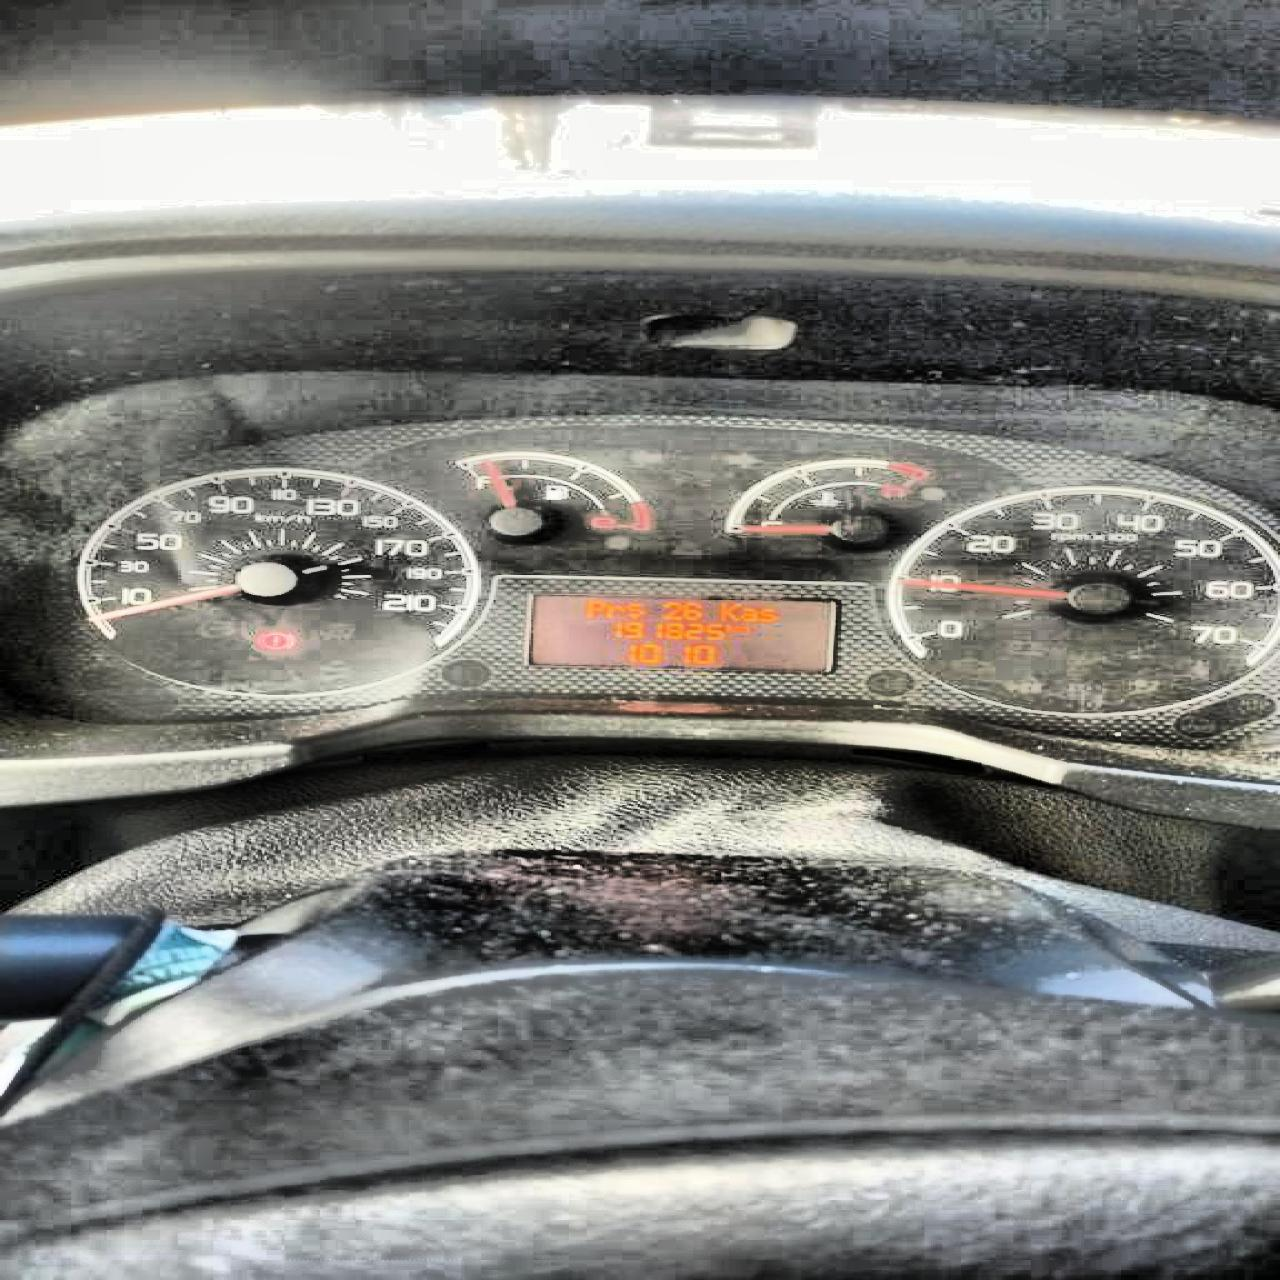0: (635, 642, 660, 662), (692, 644, 713, 663)
1: (680, 645, 692, 662), (626, 644, 635, 661), (613, 621, 622, 638), (654, 622, 662, 638)
2: (658, 600, 680, 619), (682, 622, 702, 639)
5: (702, 622, 722, 639)
6: (680, 601, 700, 620)
8: (662, 622, 682, 638)
9: (620, 621, 642, 638)
X: (719, 601, 740, 621), (585, 599, 605, 619), (622, 602, 642, 619), (602, 604, 622, 619), (756, 607, 777, 621), (737, 606, 756, 621)
odometer: (523, 592, 836, 673)
